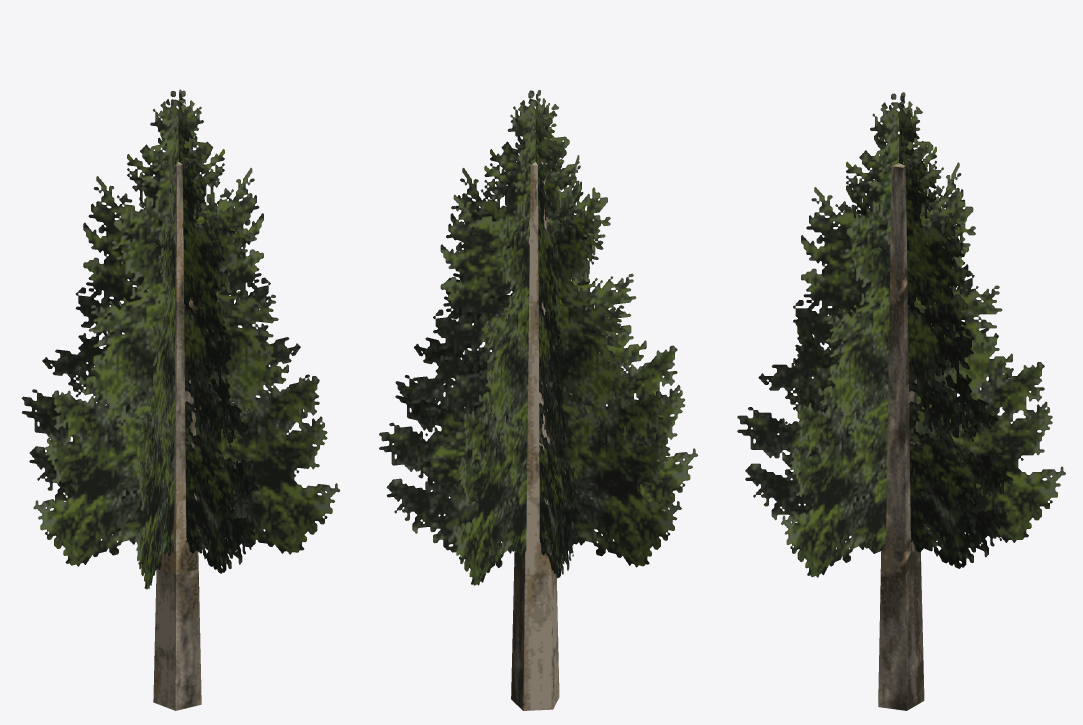
Rendered from Tree.fbx.
The picture shows the model from 3 angles, left to right: view 1: azimuth 30°, elevation 25°; view 2: azimuth 150°, elevation 25°; view 3: azimuth 270°, elevation 25°; orthographic projection.
Parts seen in each view (by area): view 1: Leaves, Trunk; view 2: Leaves, Trunk; view 3: Leaves, Trunk.
Boxes of the visible parts, x1,y1,x2,y2 form: Leaves: (21,89,340,589); Trunk: (153,161,201,710); Leaves: (379,90,697,585); Trunk: (511,162,559,710); Leaves: (737,92,1065,577); Trunk: (878,162,924,710).
Size of the model in its own units: 400 by 800 by 400.
